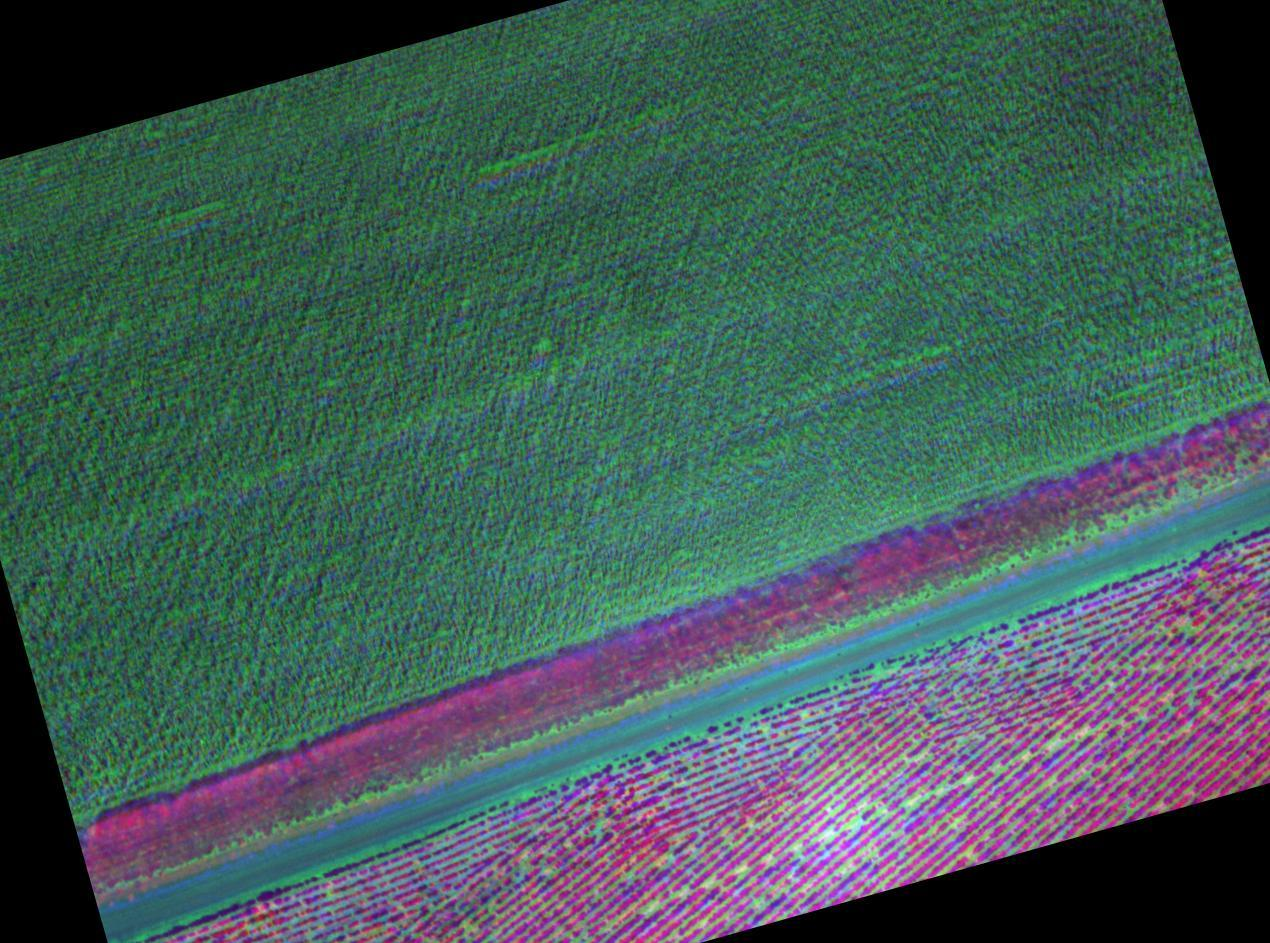dc: (1049, 739, 1057, 746), (853, 820, 859, 828), (794, 843, 800, 850), (451, 891, 456, 896), (963, 776, 967, 781), (665, 852, 669, 857), (467, 926, 471, 930)
